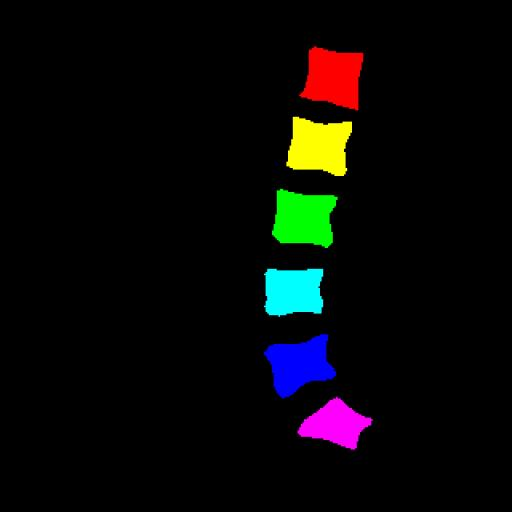L1: (300, 49, 363, 110)
L2: (286, 117, 352, 176)
L3: (272, 190, 337, 248)
L4: (265, 269, 322, 316)
L5: (264, 335, 336, 398)
S1: (298, 398, 372, 450)
